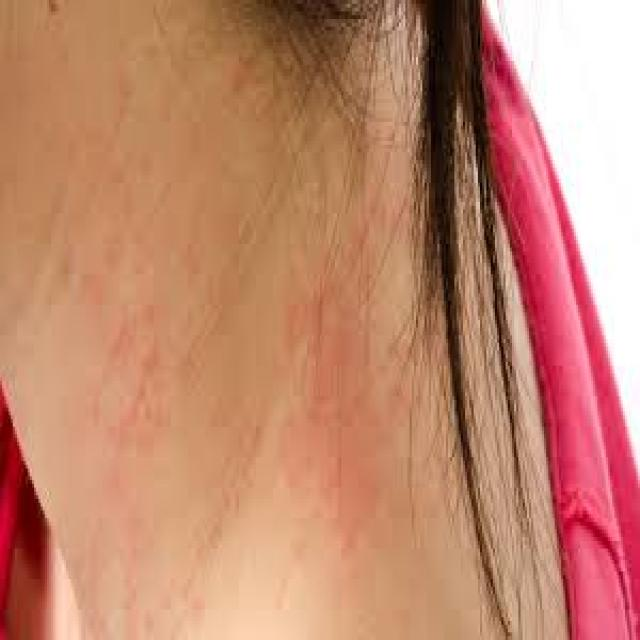Acanthosis Nigricans: (9, 34, 464, 631)
